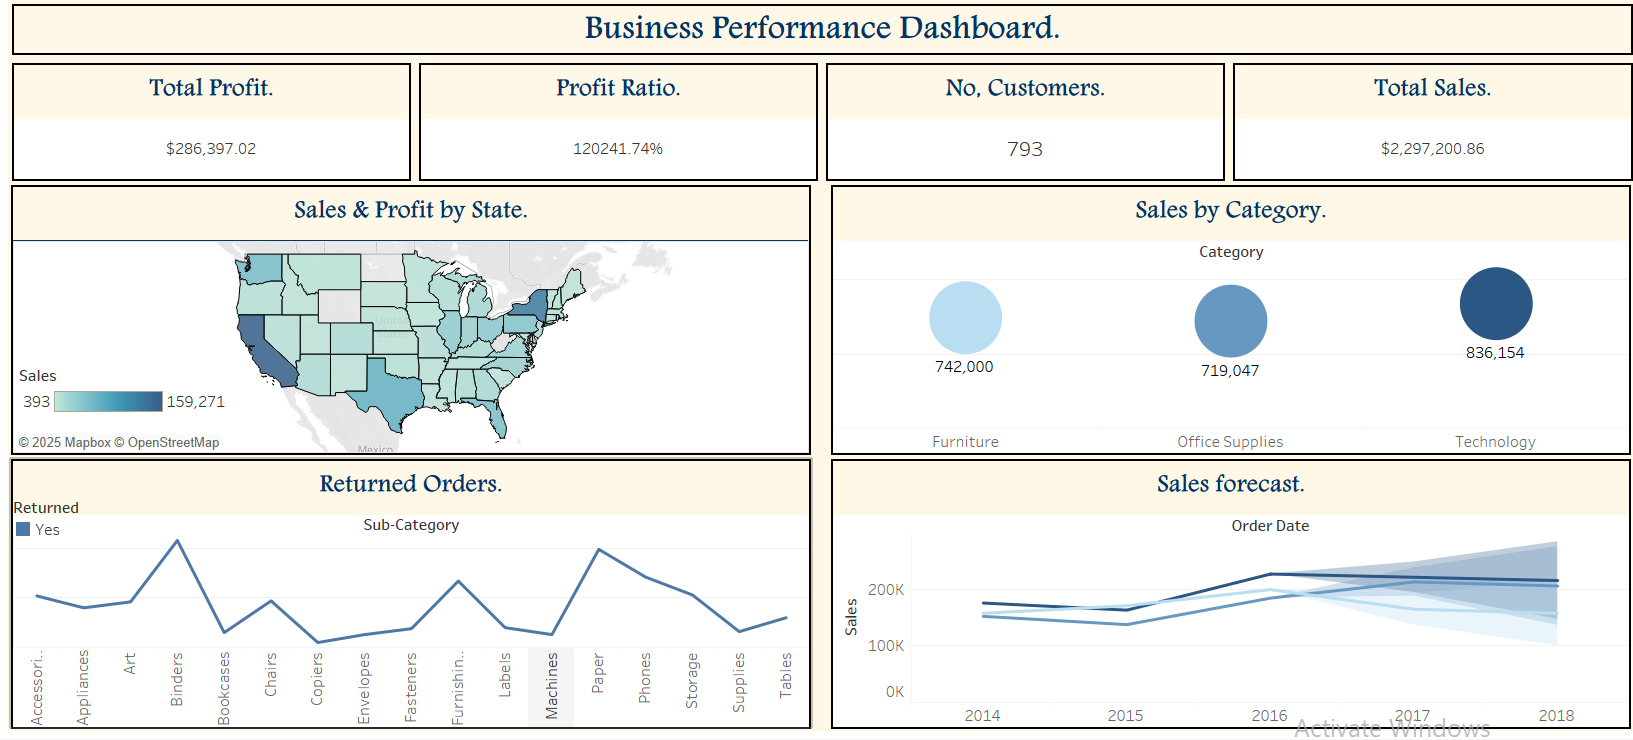

This screenshot's page, from the dashboard's own definition file:
{"tool":"tableau","page":{"name":"Business Performance Dashboard.","canvas":[1000,1000],"units":"permille","ordinal":0},"visuals":[{"type":"title","box":[4.9,10.7,990.3,79]},{"type":"worksheet","title":"Total Profit Card.","mark":"Automatic","box":[4.9,89.7,247.3,168.5]},{"type":"worksheet","title":"Profit Ratio Card.","mark":"Automatic","box":[252.2,89.7,247.6,168.5]},{"type":"worksheet","title":" Count of Customer Number Card","mark":"Automatic","box":[499.8,89.7,247.6,168.5]},{"type":"worksheet","title":"Total Sales Card.","mark":"Automatic","box":[747.4,89.7,247.8,168.5]},{"type":"worksheet","title":"Sales by region and state.","mark":"Automatic","box":[6.7,258.4,486.3,361.4]},{"type":"worksheet","title":"Sales by Category","mark":"Pie","rows":["Sales"],"cols":["Category"],"box":[505.2,258.4,486.3,361.4]},{"type":"legend","title":"Sales by region and state.","param":"[federated.1w1xjec0fi3a851aw2eri0jm1713].[sum:Sales:qk]","box":[9.1,494,133.1,96.4]},{"type":"worksheet","title":"Orders & Returns.","mark":"Line","rows":["Order ID (Returns)"],"cols":["Sub-Category"],"box":[6.7,625.2,486.3,361.4]},{"type":"worksheet","title":"Sales forecast report","mark":"Automatic","rows":["Sales"],"cols":["Order Date"],"box":[505.2,625.2,486.3,361.4]},{"type":"legend","title":"Orders & Returns.","param":"[federated.1w1xjec0fi3a851aw2eri0jm1713].[none:Returned:nk]","box":[7.9,676,85.1,57.6]}]}

Visuals, with their boxes on the dashboard's canvas, which has no fixed pixel size, in thousandths of its width and height (x1, y1, x2, y2). These are canvas units, not pixel positions in the 1633x740 screenshot, which may show the page scaled, cropped or inside an application window:
title: (x1=5, y1=11, x2=995, y2=90)
"Total Profit Card." worksheet: (x1=5, y1=90, x2=252, y2=258)
"Profit Ratio Card." worksheet: (x1=252, y1=90, x2=500, y2=258)
" Count of Customer Number Card" worksheet: (x1=500, y1=90, x2=747, y2=258)
"Total Sales Card." worksheet: (x1=747, y1=90, x2=995, y2=258)
"Sales by region and state." worksheet: (x1=7, y1=258, x2=493, y2=620)
"Sales by Category" worksheet (Pie marks): (x1=505, y1=258, x2=992, y2=620)
"Sales by region and state." legend: (x1=9, y1=494, x2=142, y2=590)
"Orders & Returns." worksheet (Line marks): (x1=7, y1=625, x2=493, y2=987)
"Sales forecast report" worksheet: (x1=505, y1=625, x2=992, y2=987)
"Orders & Returns." legend: (x1=8, y1=676, x2=93, y2=734)
